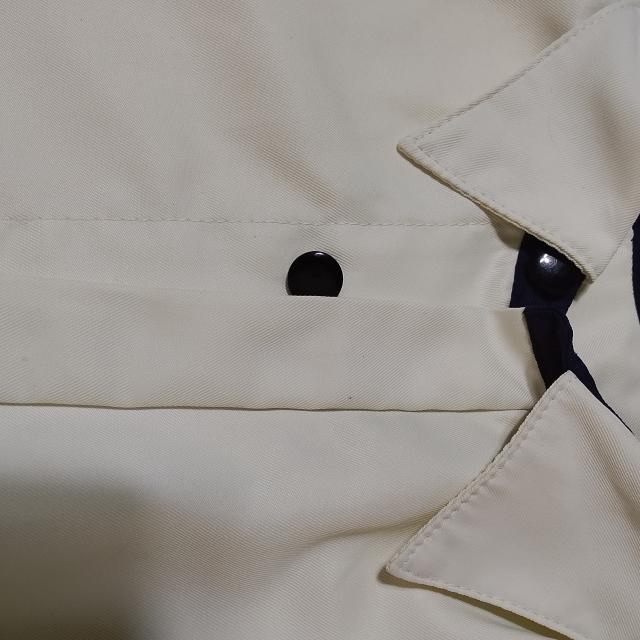education_male_uniform: (77, 0, 635, 365), (3, 419, 634, 640)
